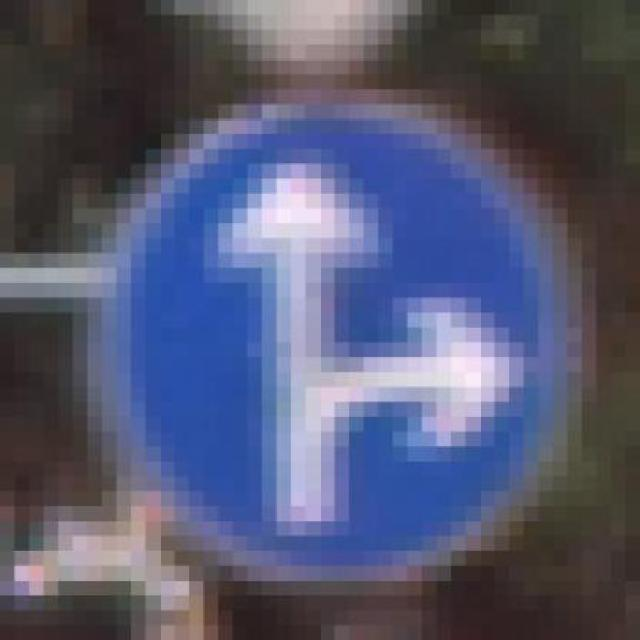Go Straight or Turn Right: (87, 90, 596, 596)
